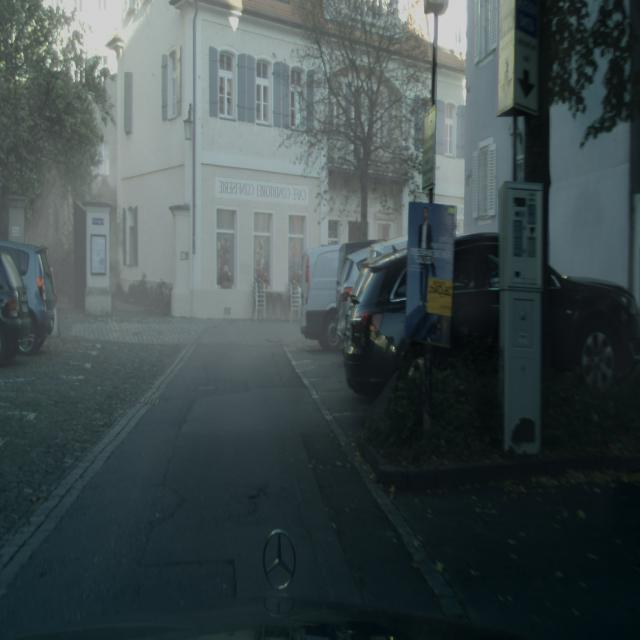bus: (344, 232, 639, 390), (300, 238, 381, 351), (337, 236, 407, 353), (0, 239, 54, 353), (0, 251, 33, 364)
